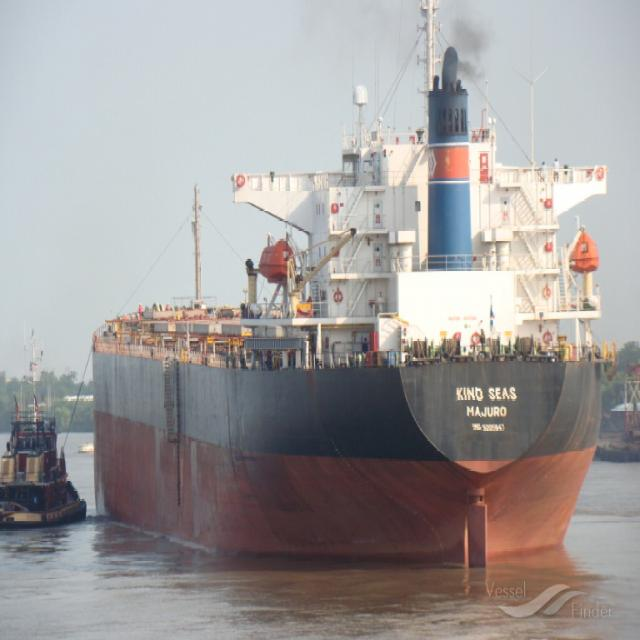OCR: (453, 379, 519, 442)
